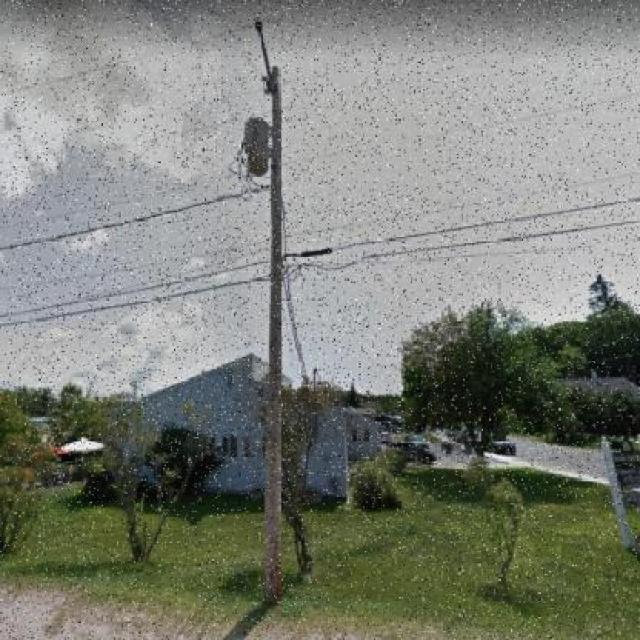pole: (265, 67, 288, 603)
transformer: (246, 117, 271, 178)
wire: (283, 198, 639, 259), (0, 186, 270, 250), (0, 260, 269, 318), (1, 276, 268, 327), (283, 264, 312, 387)
